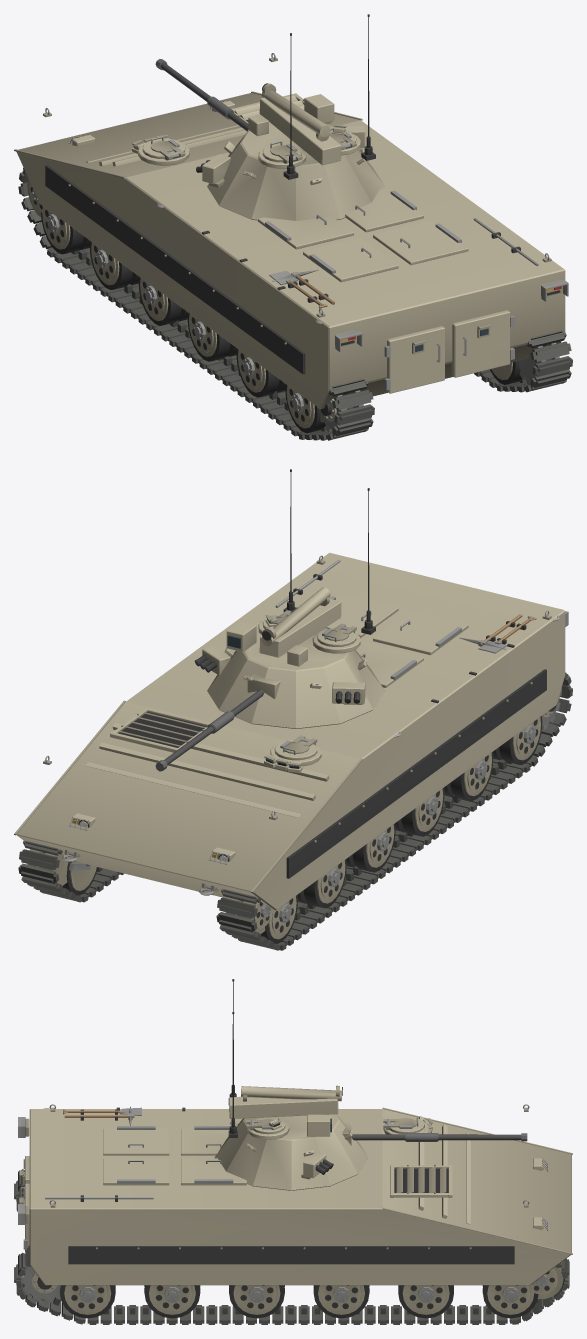
Rendered from rus_ifv_bmp2.glb.
3 renders of one model, top to bottom at view 1: azimuth 30°, elevation 25°; view 2: azimuth 150°, elevation 25°; view 3: azimuth 270°, elevation 25°, orthographic. The views are drawn at different scales.
Visible parts, largest first — view 1: body, turret, barrel; view 2: body, turret, barrel; view 3: body, turret, barrel.
Part boxes in pixels (x1,y1,x2,y2): body: (14,53,572,440); turret: (196,14,384,220); barrel: (155,59,249,131); body: (14,552,572,950); turret: (194,469,384,728); barrel: (155,674,280,771); body: (14,1104,572,1324); turret: (214,979,368,1190); barrel: (342,1122,527,1145).
Bounding box in the file's own units: 3.18 × 3.97 × 7.2.
